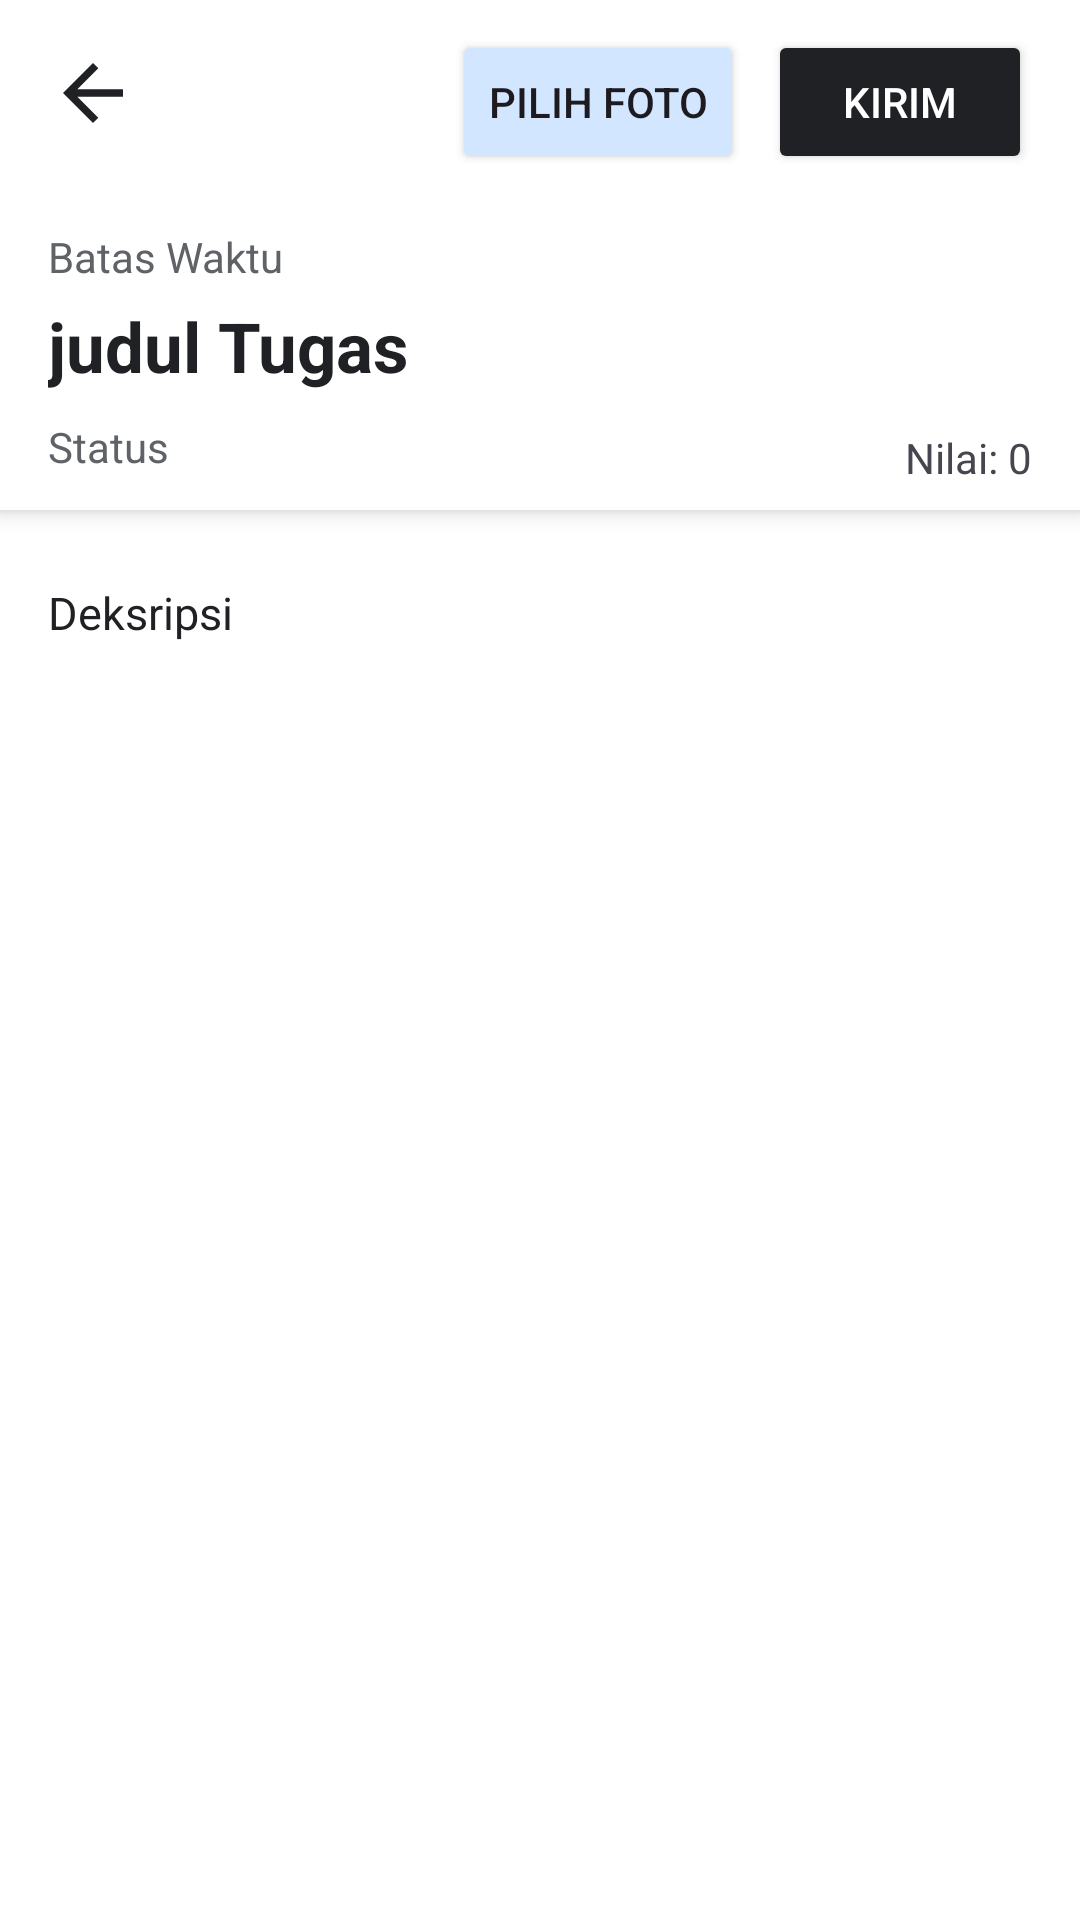

Screen size 1080x1920. Icon name, then its center in pixels as [x,y]:
kembali: [93,93]
